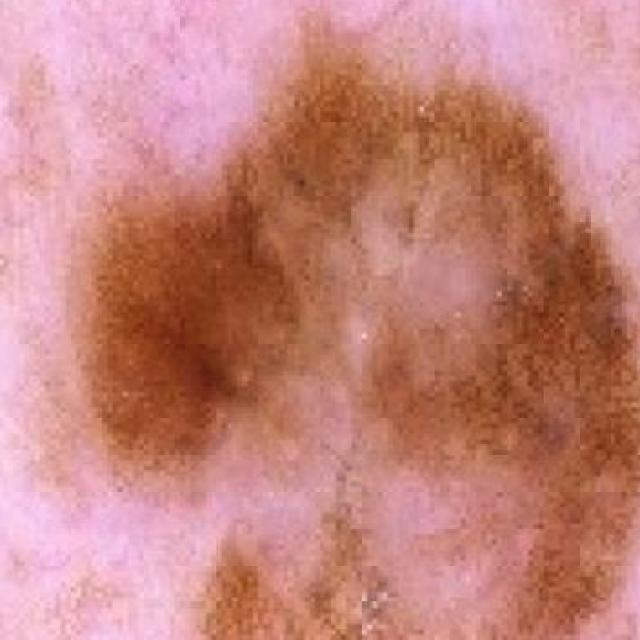MEL: (45, 50, 640, 640)
